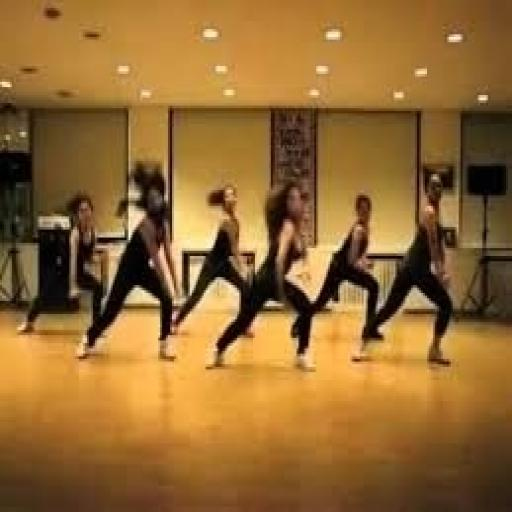dancing: (225, 154, 401, 441), (94, 132, 180, 391), (27, 184, 131, 383), (356, 169, 458, 369)
